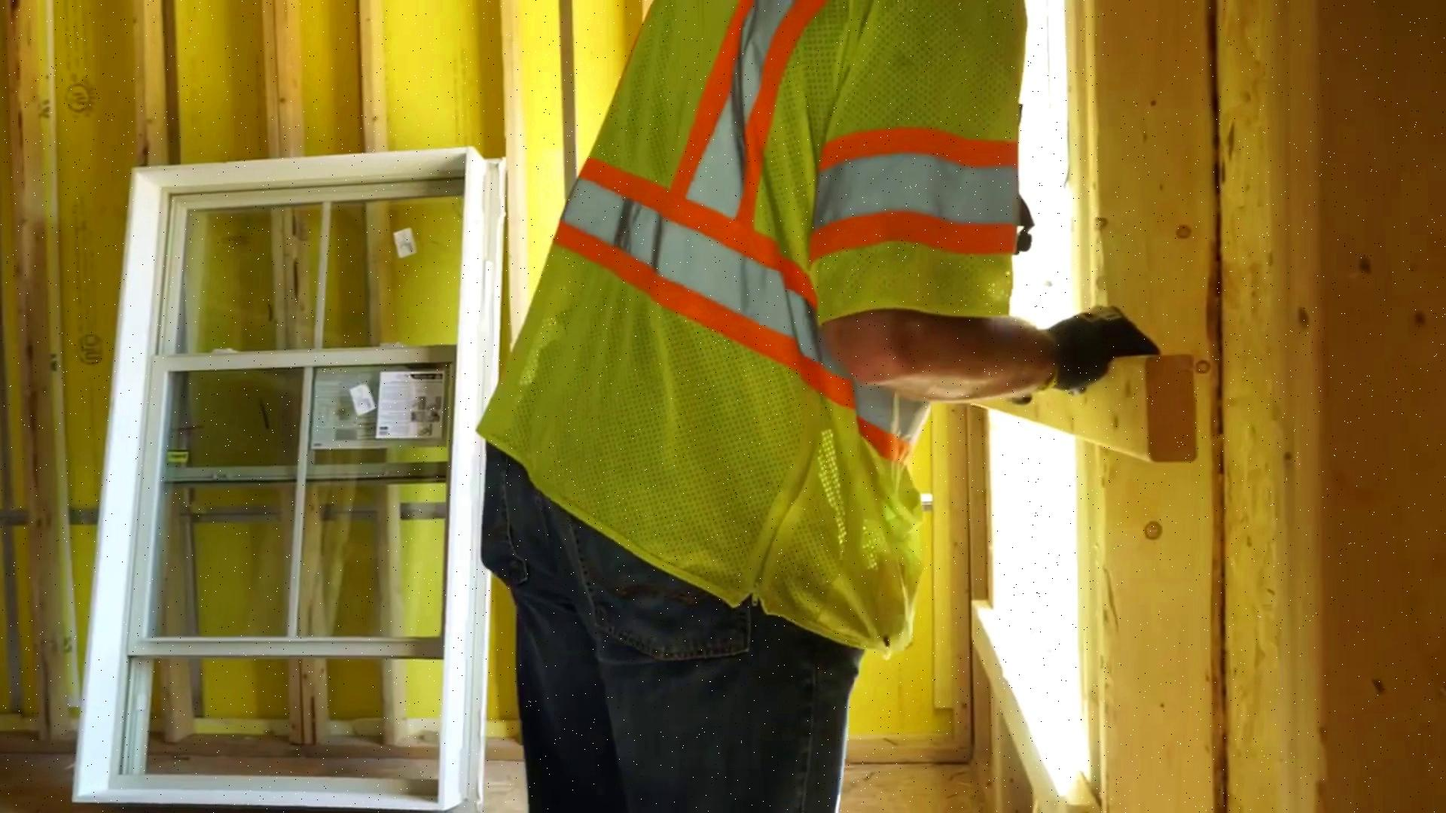Vest: (474, 0, 1033, 634)
